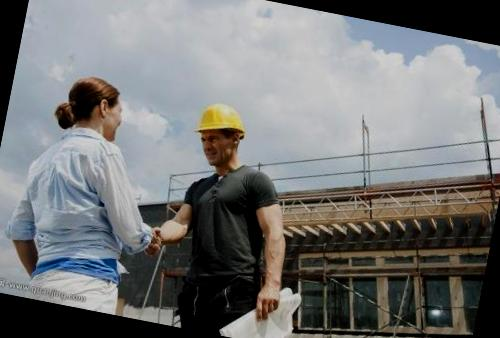helmet: (190, 100, 258, 148)
no_vest: (7, 124, 158, 317), (158, 158, 292, 338)
person: (2, 66, 170, 317), (148, 95, 312, 338)
